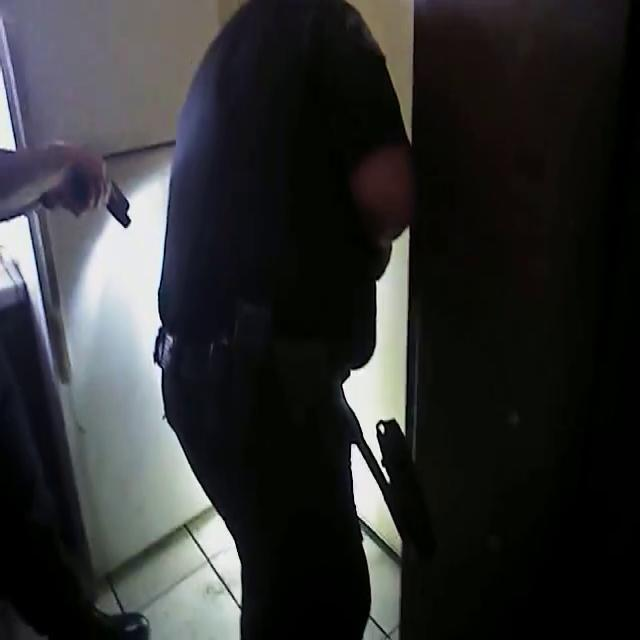gun: (53, 130, 141, 246)
